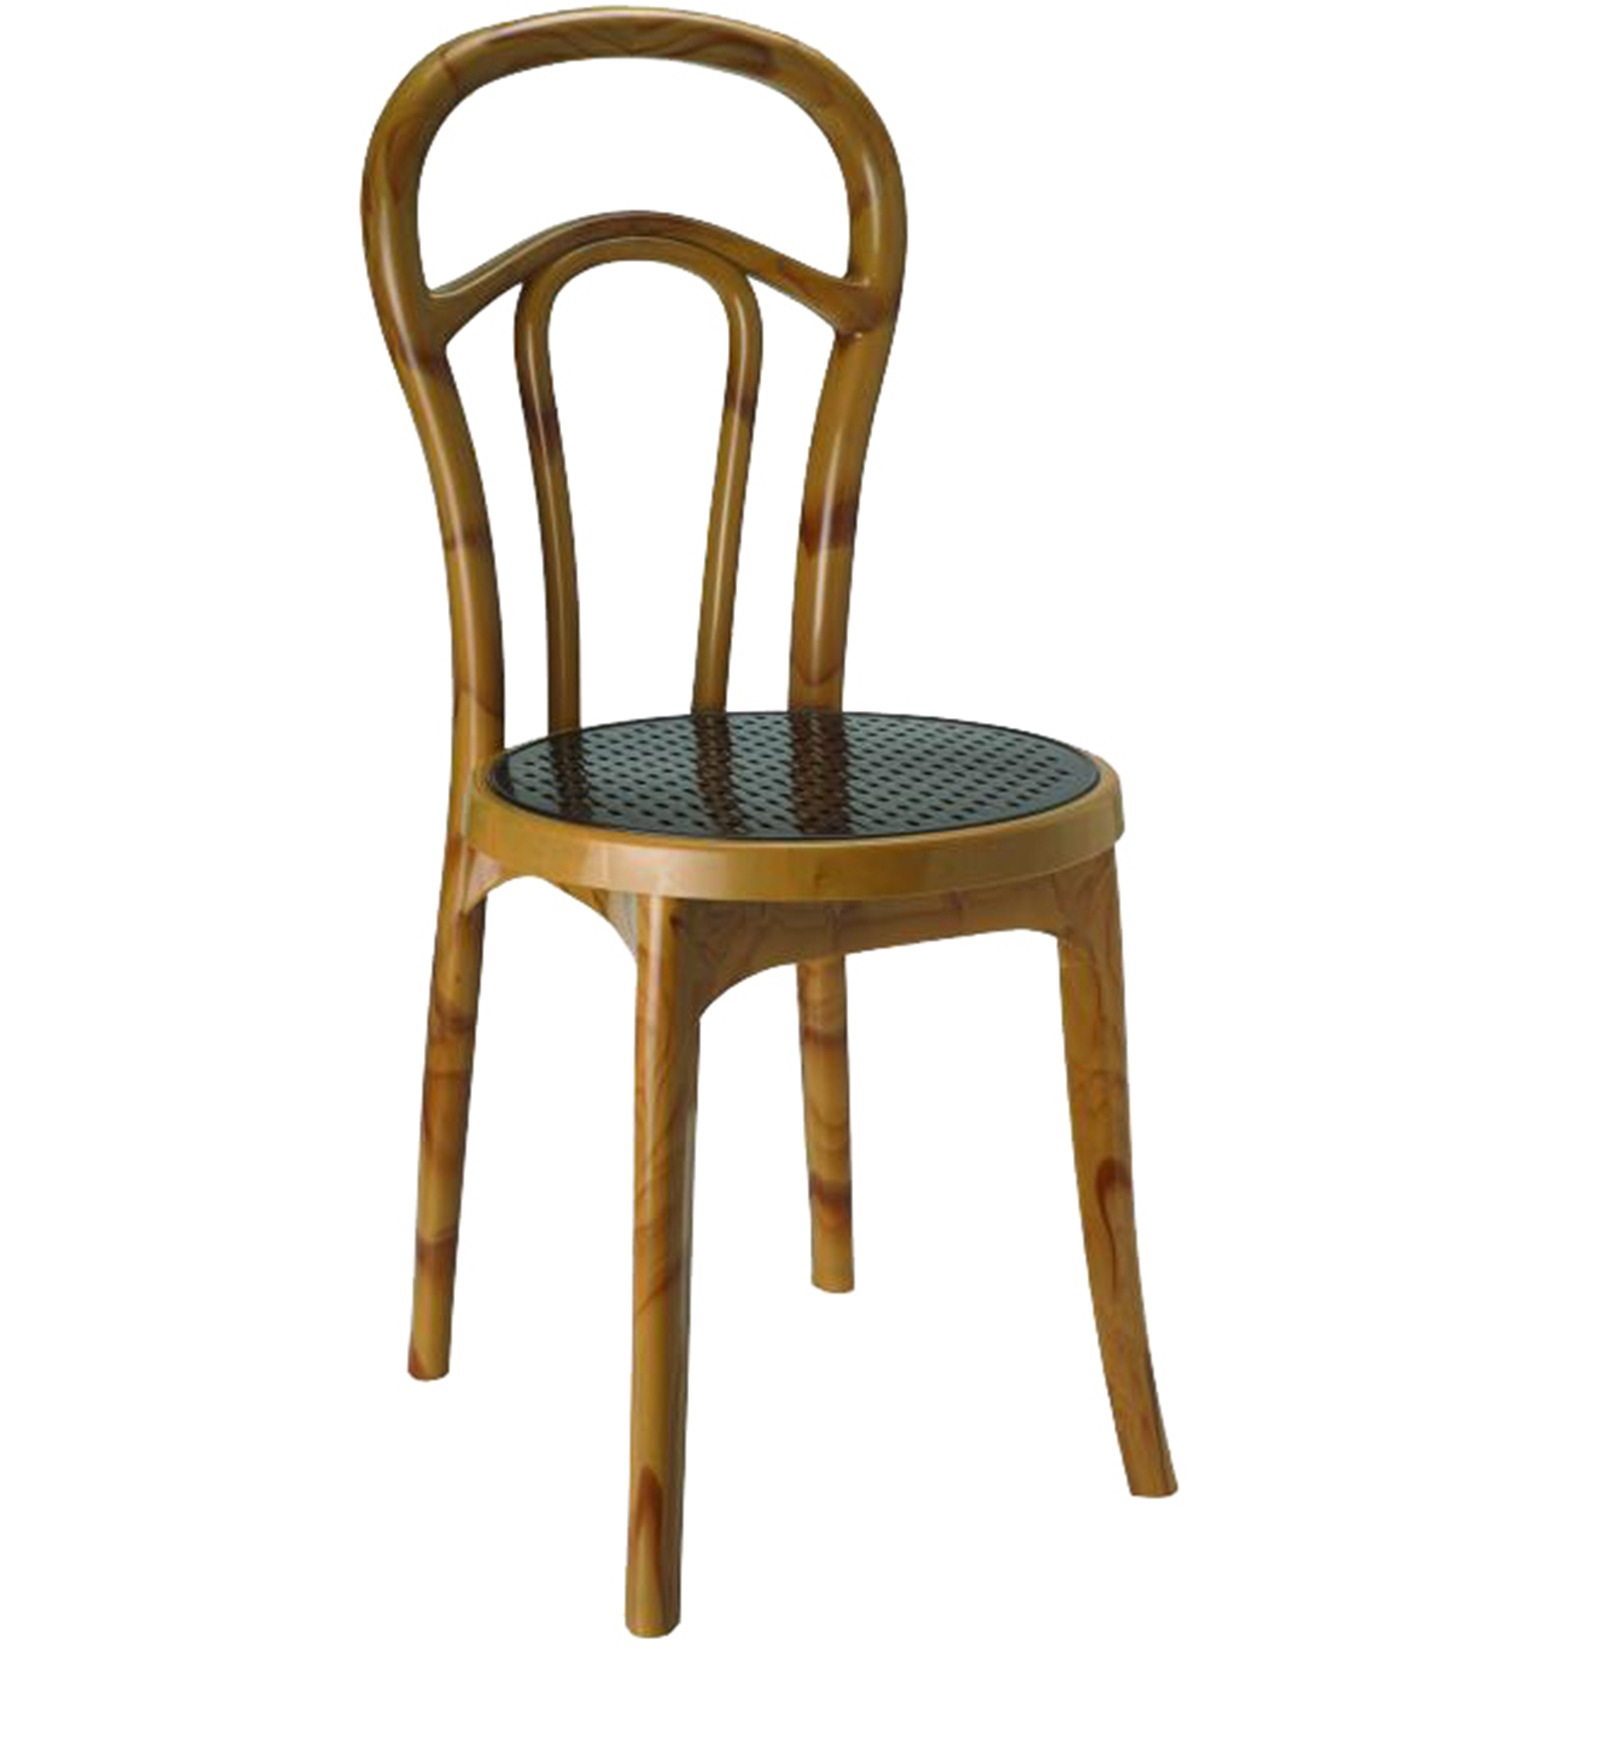Plastic Chair in Mapple & Weather Brown Colour by Nilkamal: (271, 21, 1333, 1660)
